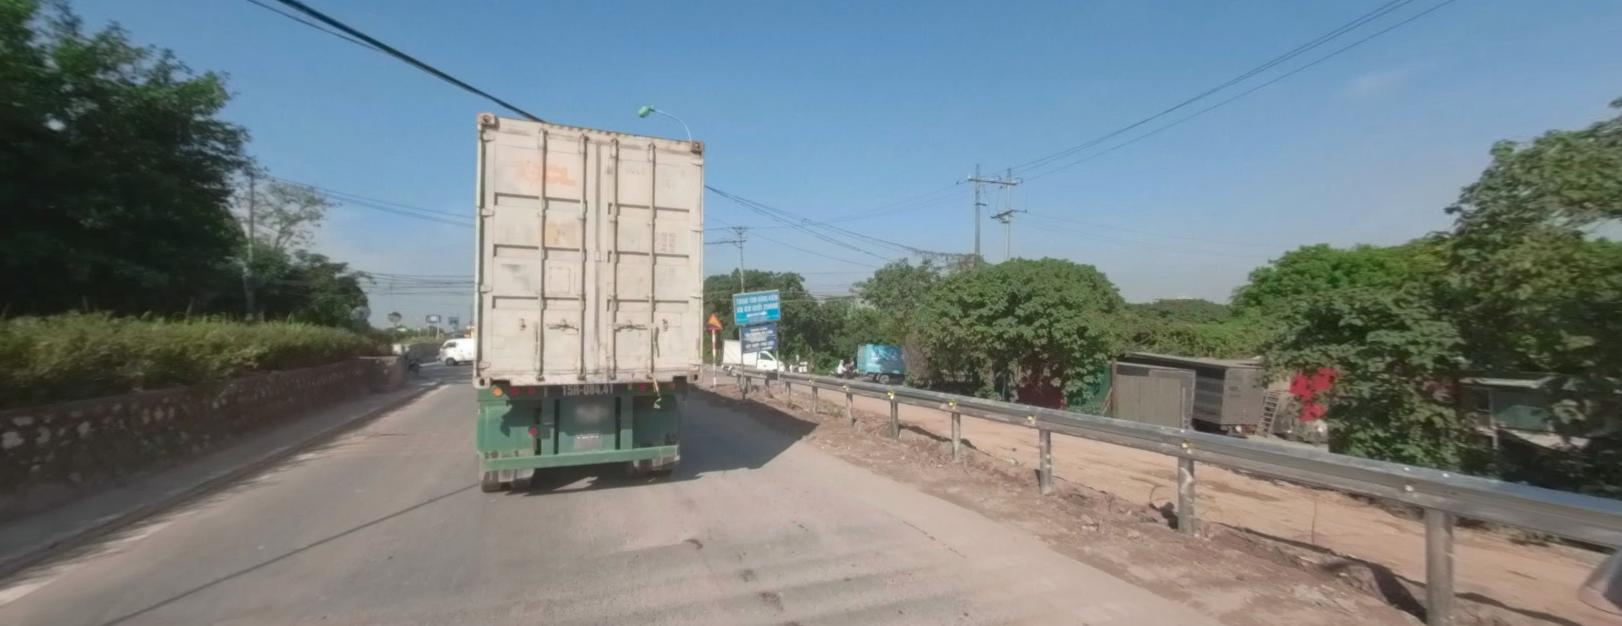Nguy hiem: (703, 311, 722, 329)
